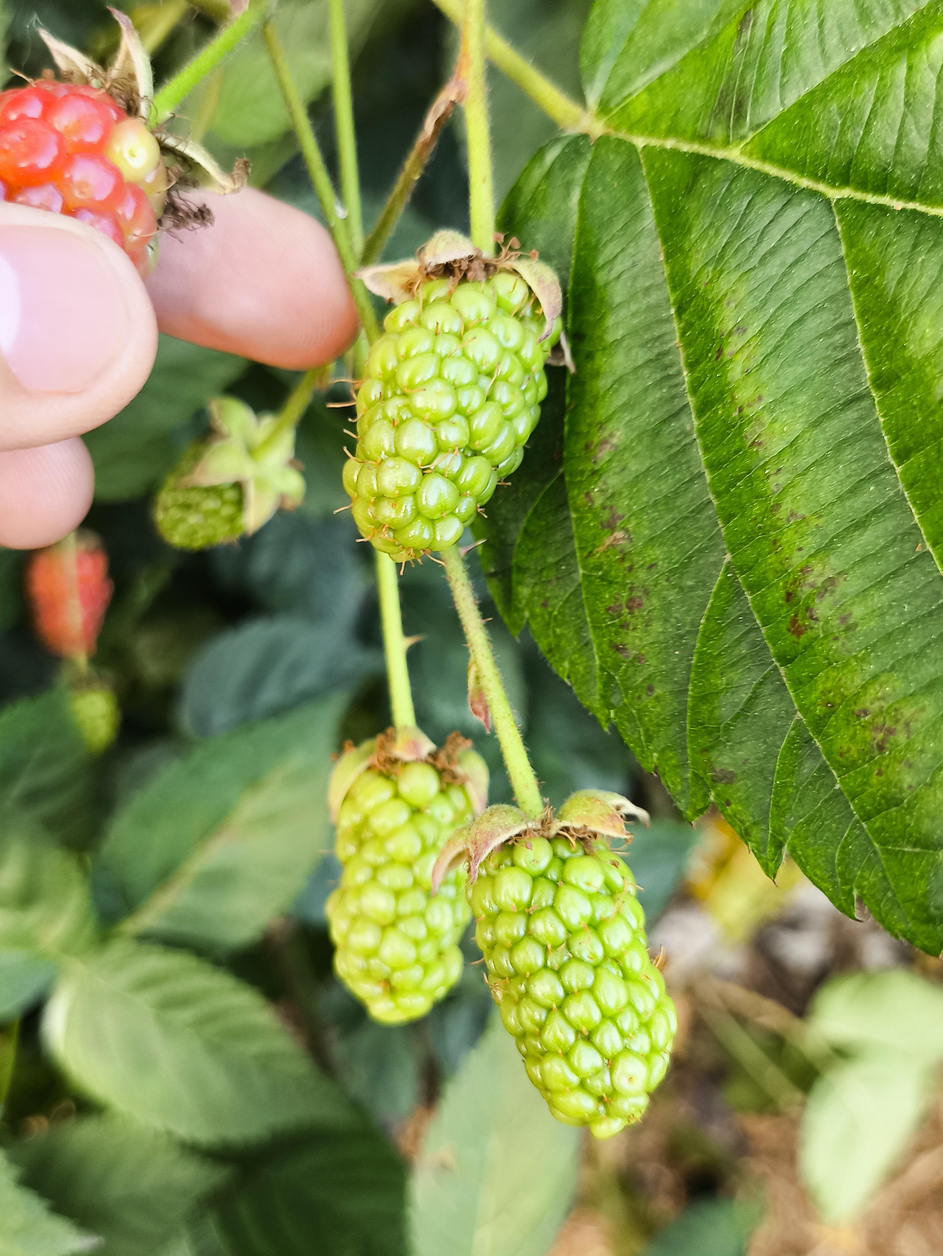naranja: (25, 531, 113, 657)
verde: (473, 823, 667, 1144), (349, 269, 553, 561), (328, 728, 489, 1025), (155, 443, 243, 550)
